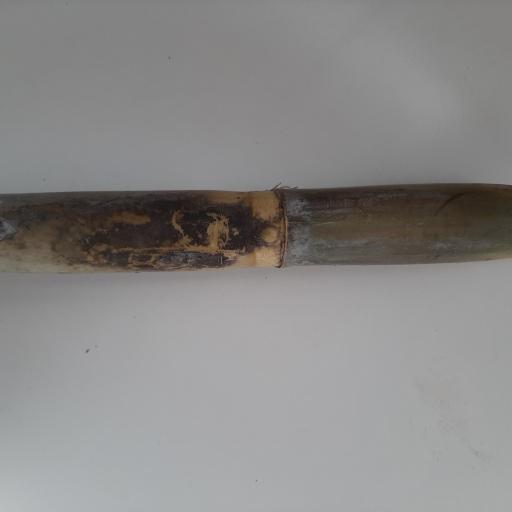Bud: (253, 224, 280, 246)
